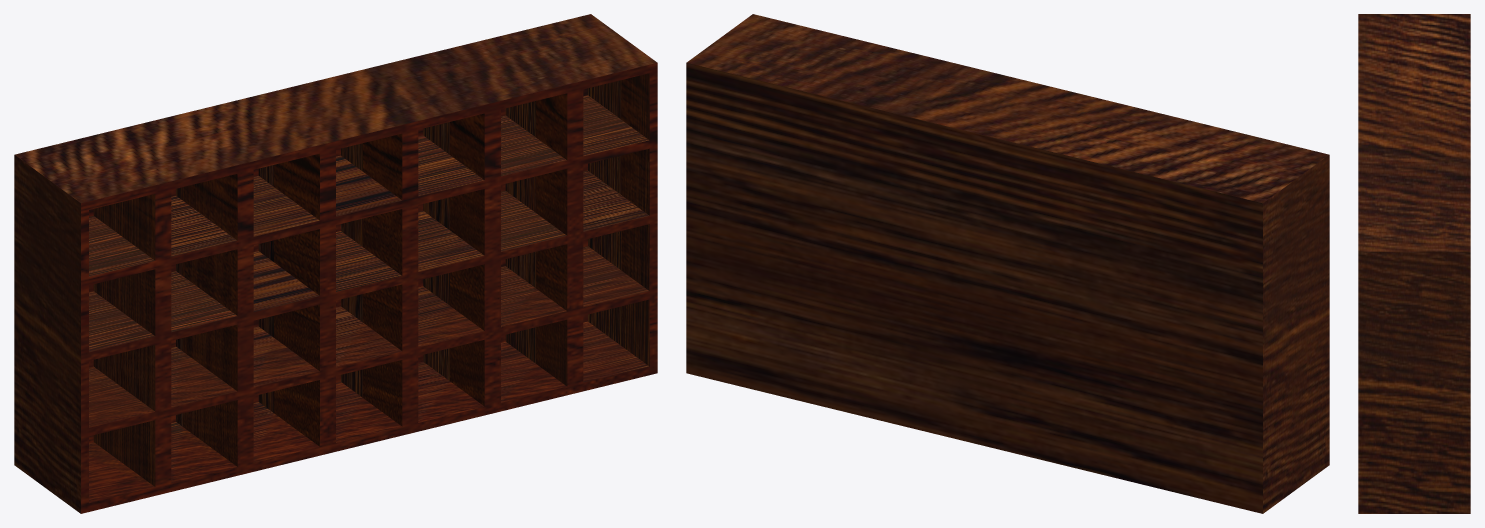
The model's file is HotelCase 1.fbx.
The picture shows the model from 3 angles, left to right: view 1: azimuth 30°, elevation 25°; view 2: azimuth 150°, elevation 25°; view 3: azimuth 270°, elevation 25°; orthographic projection. The views are drawn at different scales.
Visible parts, largest first — view 1: Cube.004; view 2: Cube.004; view 3: Cube.004.
Part boxes in pixels (box(x1,y1,x2,y2)): Cube.004: box(14, 14, 657, 513); Cube.004: box(686, 14, 1329, 513); Cube.004: box(1358, 14, 1470, 513).
Bounding box in the file's own units: 400 × 206 × 80.
1 material, 1 textured.
